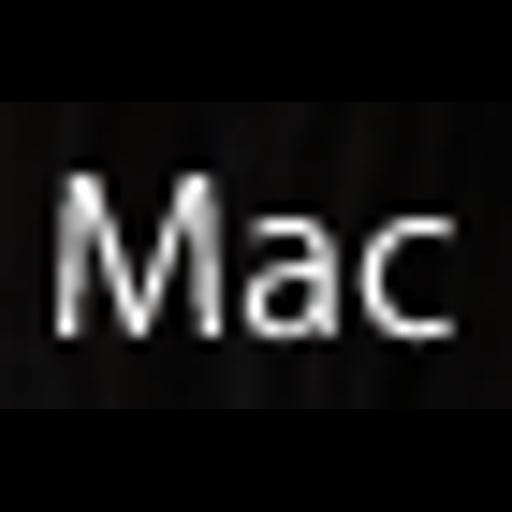Apple: (0, 102, 512, 409)
